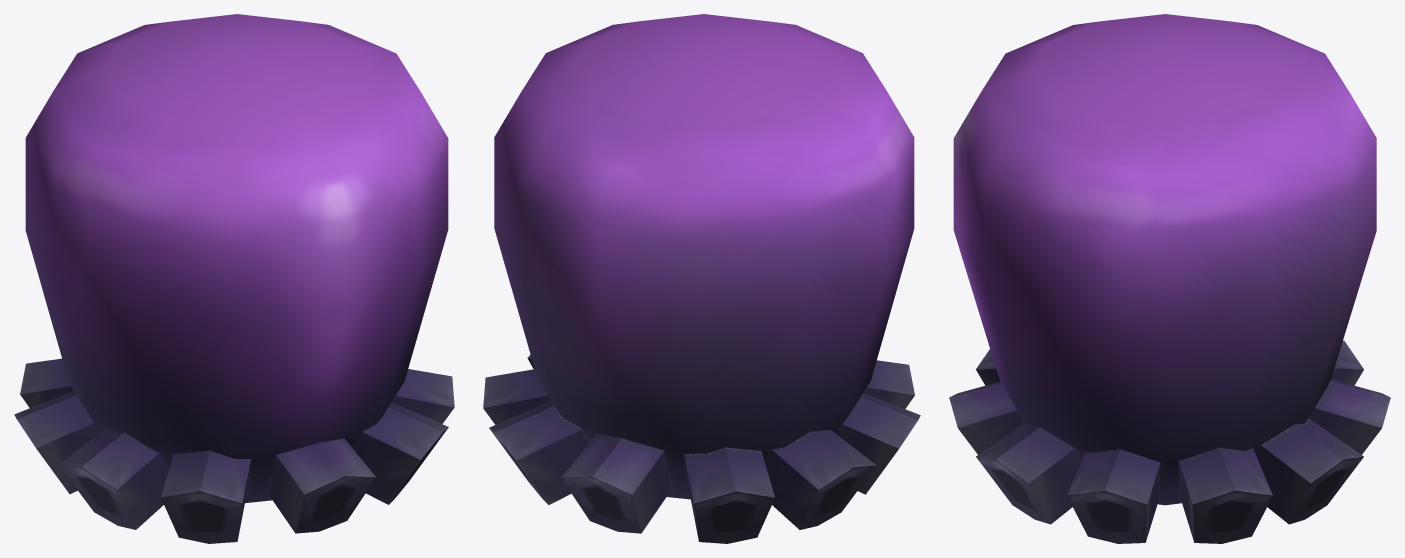
Rendered from FBX_JS_haikui_zidan_01.FBX.
3 views of the same model, side by side, from view 1: azimuth 30°, elevation 25°; view 2: azimuth 150°, elevation 25°; view 3: azimuth 270°, elevation 25° (orthographic).
Visible parts, largest first — view 1: FBX_JS_haikui_zidan_01; view 2: FBX_JS_haikui_zidan_01; view 3: FBX_JS_haikui_zidan_01.
Part boxes in pixels (left/top/right/bottom): FBX_JS_haikui_zidan_01: left=14, top=14, right=454, bottom=543; FBX_JS_haikui_zidan_01: left=483, top=14, right=920, bottom=543; FBX_JS_haikui_zidan_01: left=949, top=14, right=1390, bottom=543.
Size of the model in its own units: 43.12 by 47.02 by 44.04.
